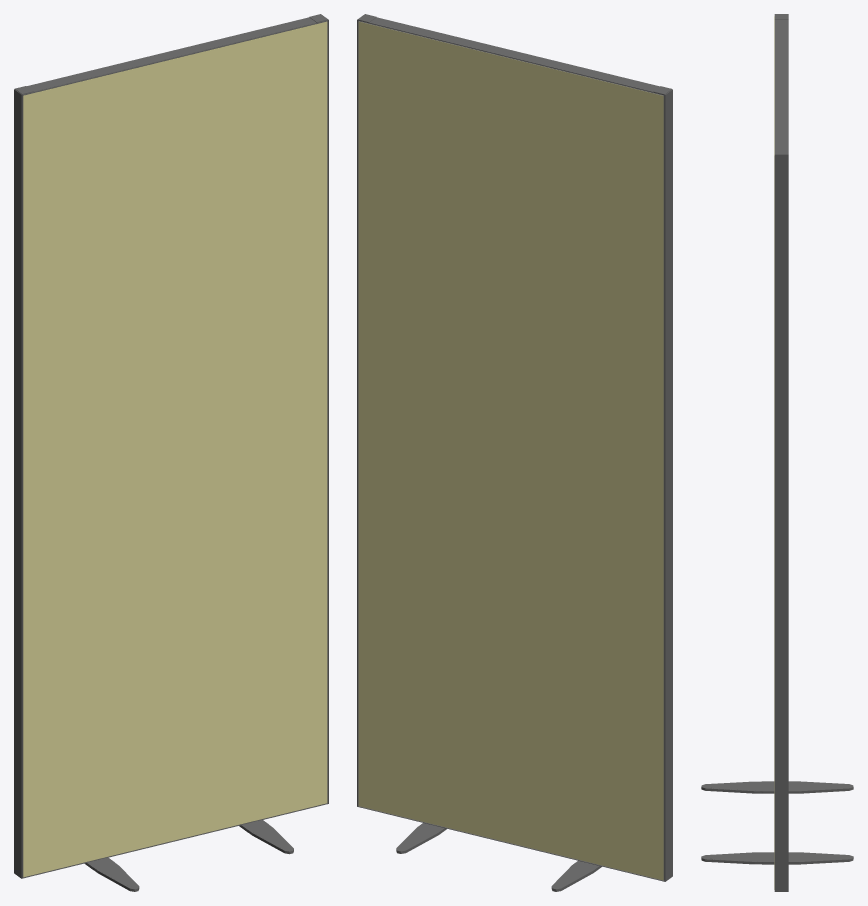
Rendered from Full Panel.glb.
The picture shows the model from 3 angles, left to right: view 1: azimuth 30°, elevation 25°; view 2: azimuth 150°, elevation 25°; view 3: azimuth 270°, elevation 25°; orthographic projection. The views are drawn at different scales.
Visible parts, largest first — view 1: Standard 38, toggle_feet_center.002; view 2: toggle_back_panel, Standard 38, toggle_feet_center.002; view 3: Standard 38, toggle_feet_center.002, toggle_feet_edge.002.
Boxes of the visible parts, left/top/right/bottom form: Standard 38: left=14, top=14, right=328, bottom=878; toggle_feet_center.002: left=84, top=820, right=289, bottom=886; toggle_back_panel: left=358, top=21, right=663, bottom=880; Standard 38: left=357, top=14, right=672, bottom=881; toggle_feet_center.002: left=396, top=823, right=601, bottom=891; Standard 38: left=774, top=14, right=788, bottom=891; toggle_feet_center.002: left=709, top=781, right=853, bottom=864; toggle_feet_edge.002: left=701, top=781, right=761, bottom=864.
Size of the model in its own units: 0.969 by 2.37 by 0.4418.
